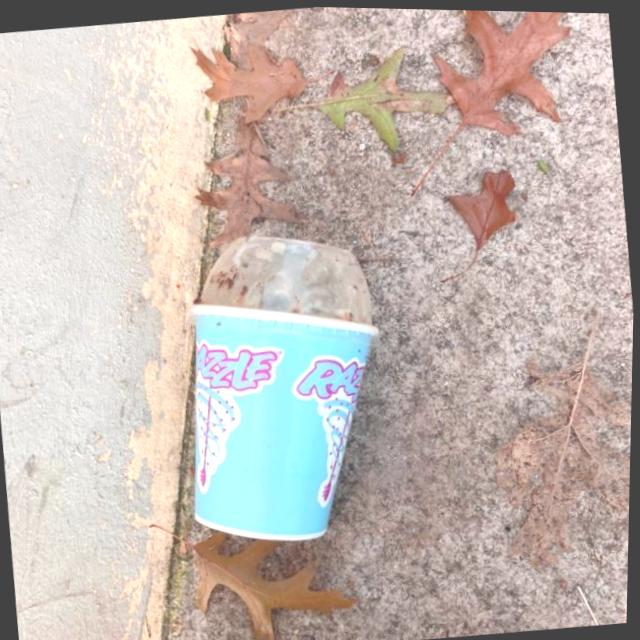Paper: (158, 216, 406, 555)
